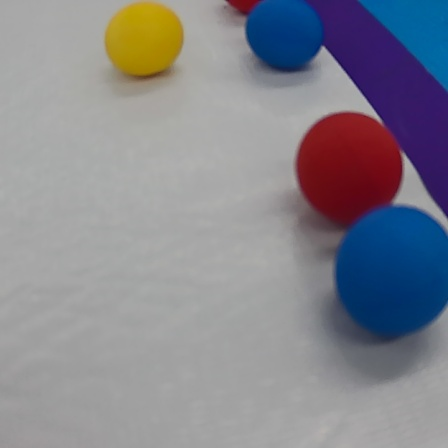blue: (333, 205, 448, 344), (243, 3, 330, 74)
blue_aim: (270, 0, 448, 274)
red: (291, 110, 409, 232)
yellow: (101, 2, 186, 87)
